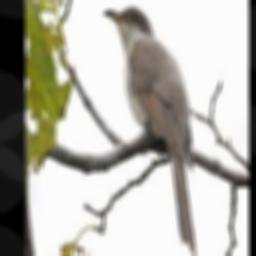Cuckoo: (103, 6, 196, 256)
